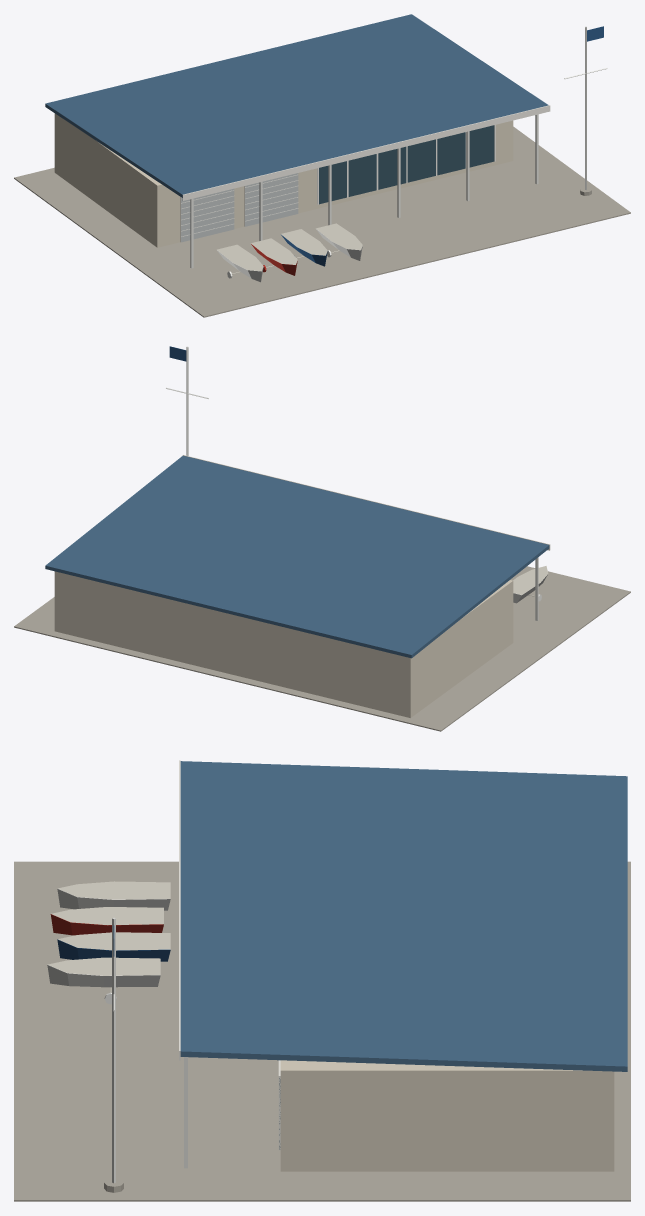
The model's file is pelican_sailing_club.glb.
The picture shows the model from 3 angles, top to bottom: view 1: azimuth 30°, elevation 25°; view 2: azimuth 150°, elevation 25°; view 3: azimuth 270°, elevation 25°; orthographic projection. The views are drawn at different scales.
Visible parts, largest first — view 1: PelicanSailingClub; view 2: PelicanSailingClub; view 3: PelicanSailingClub.
Part boxes in pixels (x1,y1,x2,y2): PelicanSailingClub: (14,14,630,317); PelicanSailingClub: (14,346,630,731); PelicanSailingClub: (14,760,630,1201).
Size of what is drawn, in the model's own units: 24.4 by 9 by 18.5.
